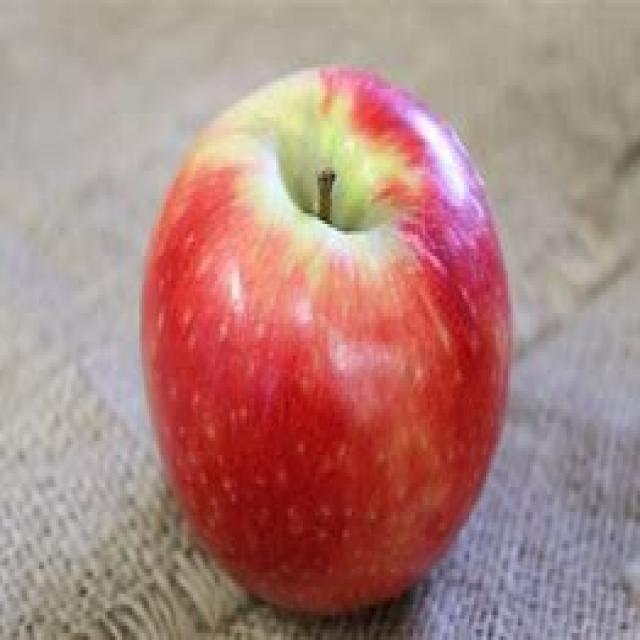apple: (139, 65, 514, 616)
